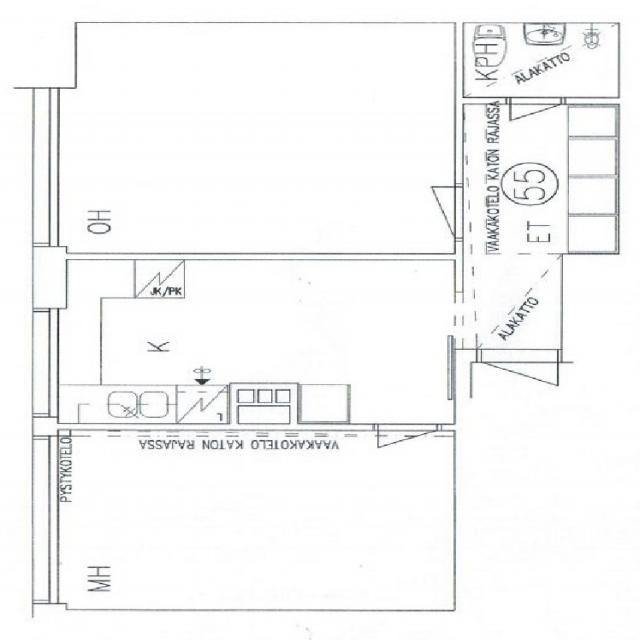door: (481, 348, 556, 419), (390, 190, 464, 238), (390, 141, 464, 189), (376, 423, 436, 476), (511, 97, 561, 143)
